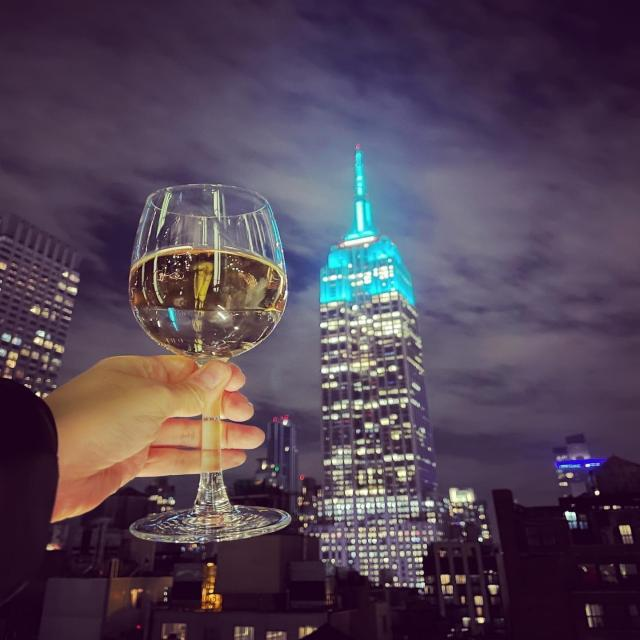glass-wine: (123, 178, 302, 548)
